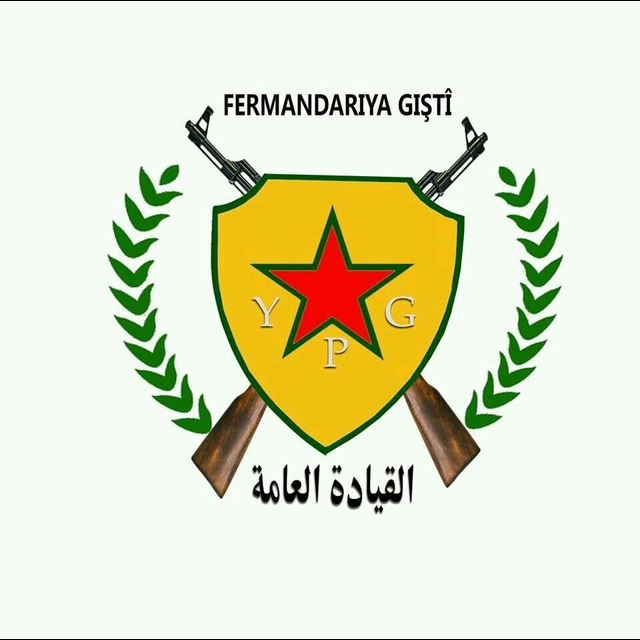YPG: (247, 205, 420, 377)
